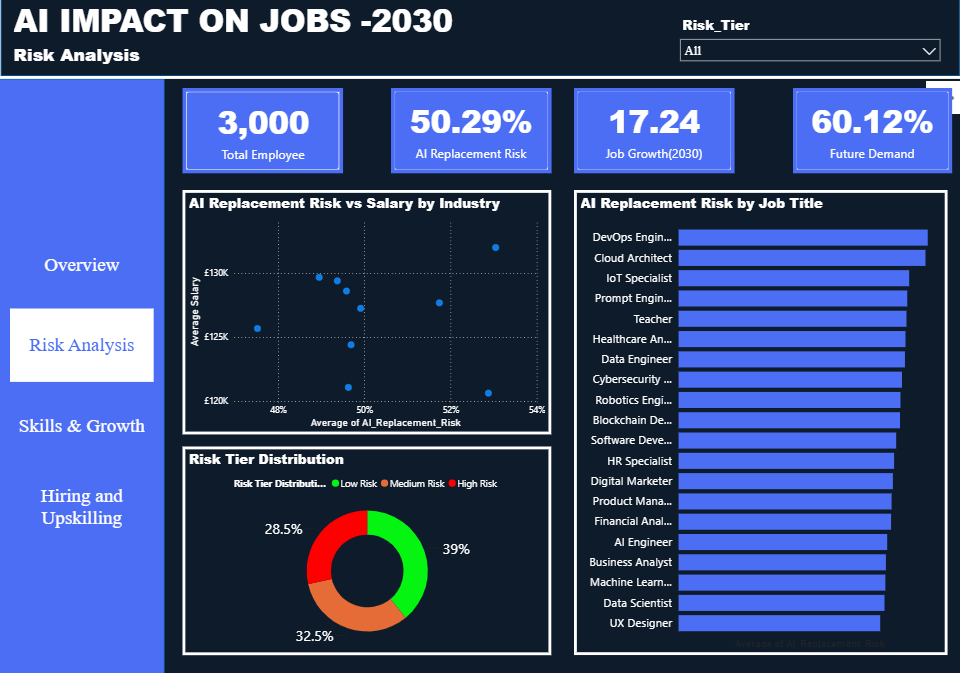

The page's visual inventory and layout, read from the dashboard file:
{"tool":"powerbi","page":{"name":"Risk Analysis","canvas":[1350,950],"ordinal":1},"visuals":[{"type":"shape","box":[0,0,1349.5,117.5],"z":0},{"type":"clusteredBarChart","title":"AI Replacement Risk by Job Title","fields":{"Category":["cleaned_data.Job_Title"],"Y":["Avg(cleaned_data.AI_Replacement_Risk)"]},"box":[805.9,272.8,522.6,650.6],"z":1000},{"type":"donutChart","title":"Risk Tier Distribution","fields":{"Category":["cleaned_data.Risk_Tier"],"Y":["CountNonNull(cleaned_data.Employee_ID)"]},"box":[258.1,631.7,516.3,291.7],"z":2000},{"type":"scatterChart","title":"AI Replacement Risk vs Salary by Industry","fields":{"X":["Avg(cleaned_data.AI_Replacement_Risk)"],"Y":["Avg(cleaned_data.Average_Salary_USD)"],"Category":["cleaned_data.Industry"]},"box":[258.1,272.8,516.3,342.1],"z":3000},{"type":"slicer","fields":{"Values":["cleaned_data.Risk_Tier"]},"box":[945.2,23.8,383.7,83.5],"z":4000},{"type":"cardVisual","fields":{"Data":["Avg(cleaned_data.AI_Replacement_Risk)"]},"box":[549.9,130.1,224.6,119.6],"z":5000},{"type":"cardVisual","fields":{"Data":["Avg(cleaned_data.Job_Growth_2030)"]},"box":[805.9,130.1,224.6,119.6],"z":6000},{"type":"cardVisual","fields":{"Data":["Avg(cleaned_data.Future_Demand_Score)"]},"box":[1112.3,130.1,222.5,119.6],"z":7000},{"type":"cardVisual","fields":{"Data":["Count(cleaned_data.Employee_ID)"]},"box":[258.1,130.1,224.6,119.6],"z":8000},{"type":"shape","box":[0,116.8,233,833.2],"z":9000},{"type":"pageNavigator","box":[16.8,325.3,201.5,442.8],"z":10000},{"type":"textbox","box":[16.8,0,902.5,117.5],"z":11000}]}

Visuals, with their boxes in screenshot pixels (x1, y1, x2, y2), scaled from the page's 1350x950 canvas onto the 960x673 screenshot:
shape: {"x1": 0, "y1": 0, "x2": 959, "y2": 83}
"AI Replacement Risk by Job Title" clusteredBarChart: {"x1": 573, "y1": 193, "x2": 945, "y2": 654}
"Risk Tier Distribution" donutChart: {"x1": 184, "y1": 448, "x2": 551, "y2": 654}
"AI Replacement Risk vs Salary by Industry" scatterChart: {"x1": 184, "y1": 193, "x2": 551, "y2": 436}
slicer - cleaned_data.Risk_Tier: {"x1": 672, "y1": 17, "x2": 945, "y2": 76}
cardVisual - Avg(cleaned_data.AI_Replacement_Risk): {"x1": 391, "y1": 92, "x2": 551, "y2": 177}
cardVisual - Avg(cleaned_data.Job_Growth_2030): {"x1": 573, "y1": 92, "x2": 733, "y2": 177}
cardVisual - Avg(cleaned_data.Future_Demand_Score): {"x1": 791, "y1": 92, "x2": 949, "y2": 177}
cardVisual - Count(cleaned_data.Employee_ID): {"x1": 184, "y1": 92, "x2": 343, "y2": 177}
shape: {"x1": 0, "y1": 83, "x2": 166, "y2": 672}
pageNavigator: {"x1": 12, "y1": 230, "x2": 155, "y2": 544}
textbox: {"x1": 12, "y1": 0, "x2": 654, "y2": 83}
